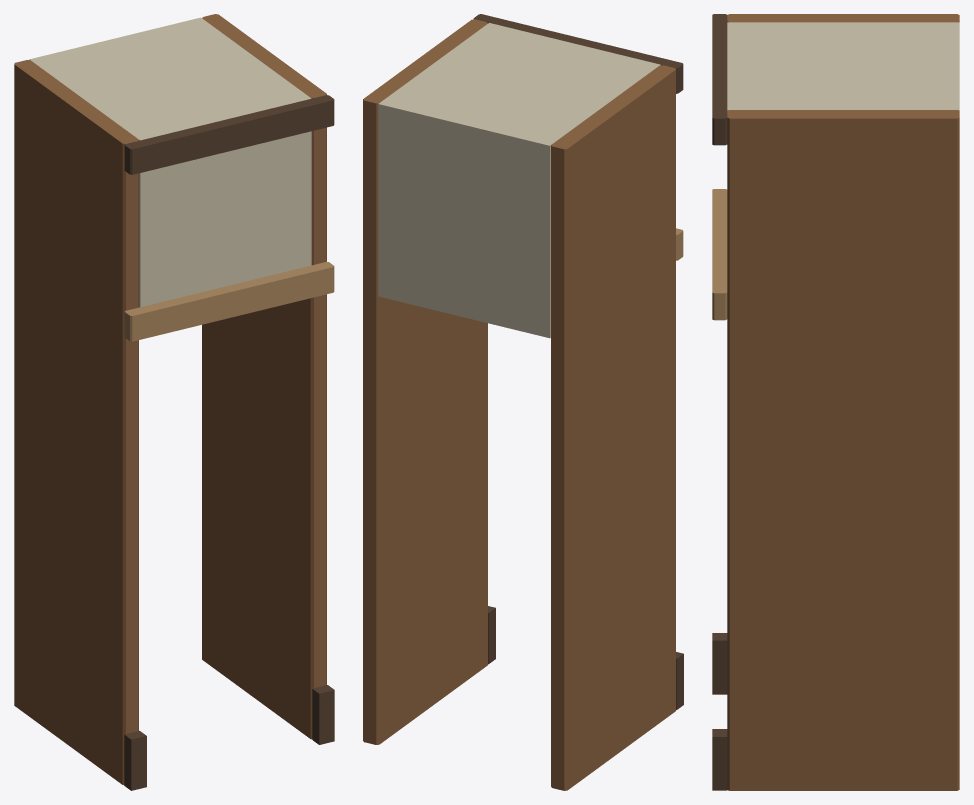
File: door_home.glb
3 views of the same model, side by side, from view 1: azimuth 30°, elevation 25°; view 2: azimuth 150°, elevation 25°; view 3: azimuth 270°, elevation 25° (orthographic). The views are drawn at different scales.
Parts seen in each view (by area): view 1: geometry; view 2: geometry; view 3: geometry.
Part boxes in pixels (bbox=[...]): geometry: bbox=[14, 14, 334, 790]; geometry: bbox=[363, 14, 683, 790]; geometry: bbox=[712, 14, 959, 790].
Bounding box in the file's own units: 1 × 3 × 1.
